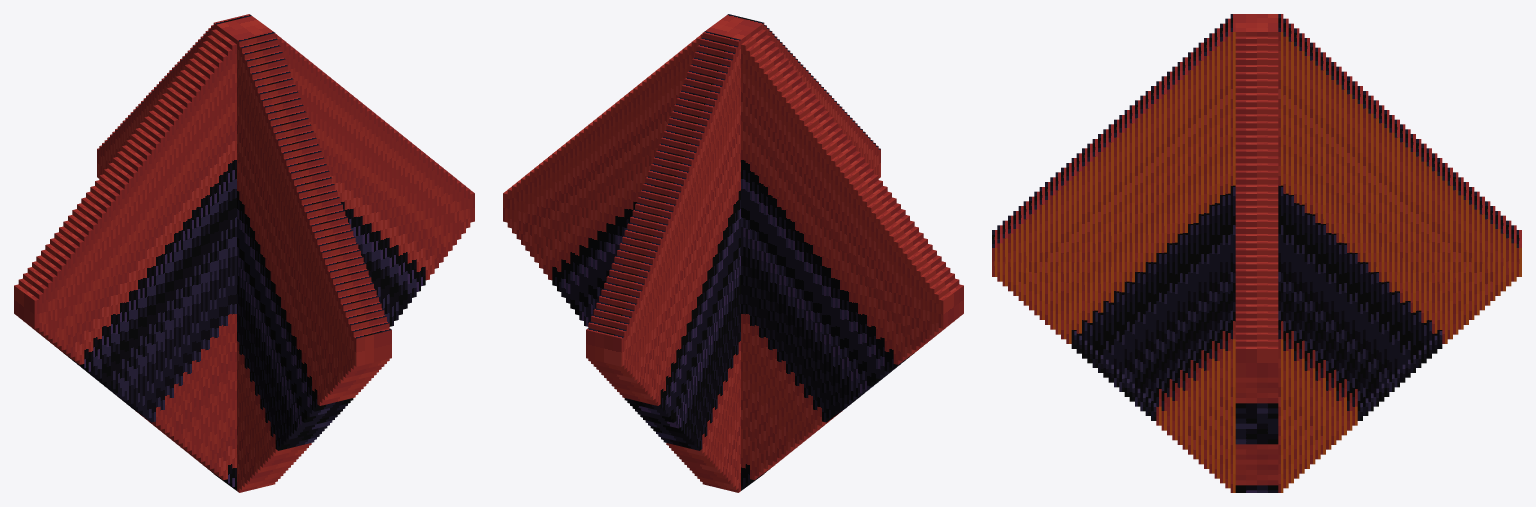
File: fuck.obj
The picture shows the model from 3 angles, left to right: view 1: azimuth 30°, elevation 25°; view 2: azimuth 150°, elevation 25°; view 3: azimuth 270°, elevation 25°; orthographic projection. The views are drawn at different scales.
Parts seen in each view (by area): view 1: cube; view 2: cube; view 3: cube.
Part boxes in pixels (box(x1,y1,x2,y2)): cube: box(14, 14, 474, 492); cube: box(503, 14, 963, 492); cube: box(992, 14, 1521, 492).
Size of the model in its own units: 1.53 by 1.5 by 1.56.
